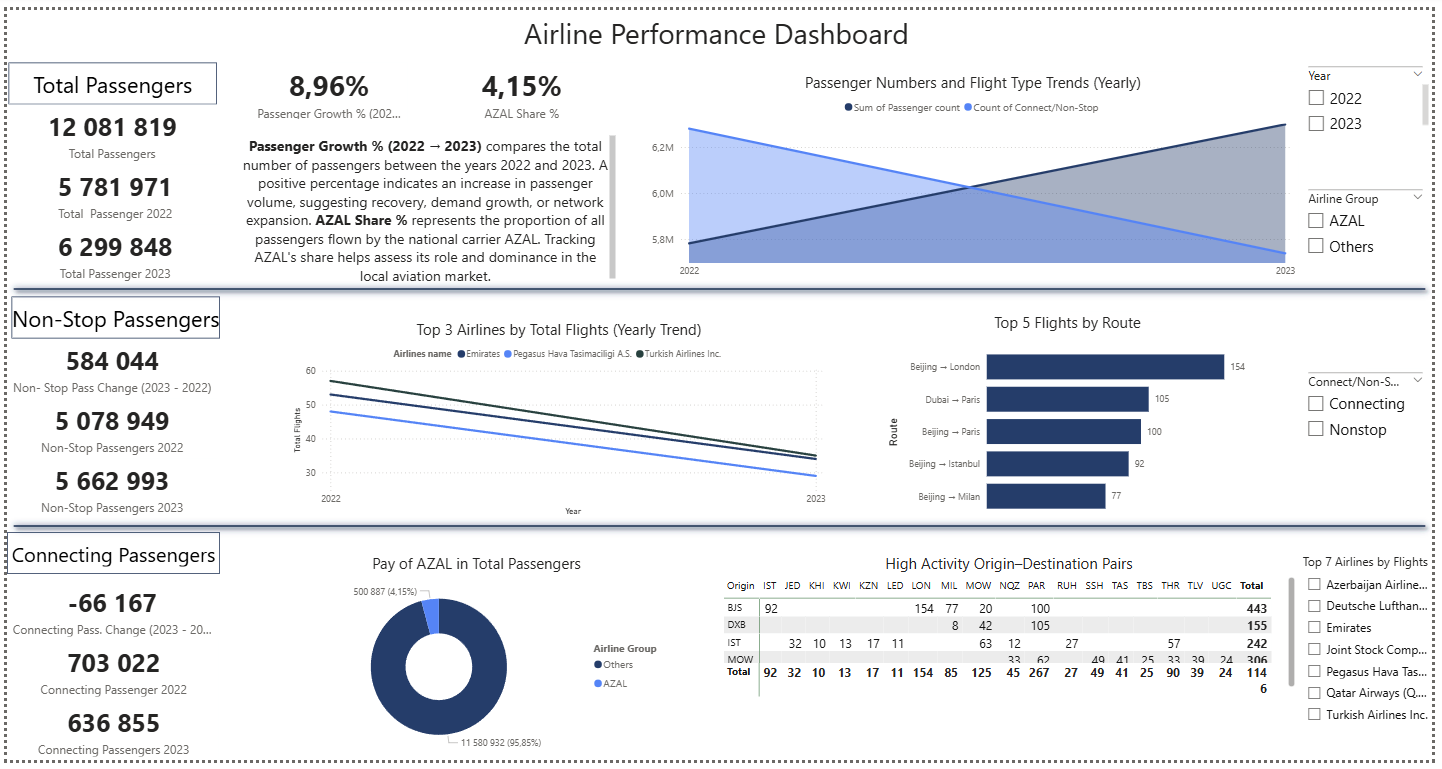

The page's visual inventory and layout, read from the dashboard file:
{"tool":"powerbi","page":{"name":"Airline Performance","canvas":[1900,1000],"ordinal":0},"visuals":[{"type":"card","fields":{"Values":["Measure Table.Total  Passenger 2022"]},"box":[4,206,280,80],"z":0},{"type":"card","fields":{"Values":["Measure Table.Total Passenger 2023"]},"box":[4,286,280,80],"z":1000},{"type":"card","fields":{"Values":["Measure Table.Non- Stop Pass Change (2023 - 2022)"]},"box":[0,438,280,80],"z":2000},{"type":"card","fields":{"Values":["Measure Table.Non-Stop Passengers 2022"]},"box":[0,518,280,80],"z":3000},{"type":"card","fields":{"Values":["Measure Table.Non-Stop Passengers 2023"]},"box":[0,598,280,80],"z":4000},{"type":"card","fields":{"Values":["Measure Table.Connecting Passenger Change (2023 - 2022)"]},"box":[0,760,280,80],"z":5000},{"type":"card","fields":{"Values":["Measure Table.Connecting Passenger 2022"]},"box":[2,840,280,80],"z":6000},{"type":"card","fields":{"Values":["Measure Table.Connecting Passengers 2023"]},"box":[2,920,280,80],"z":7000},{"type":"textbox","box":[2,0,1898,70],"z":8000},{"type":"textbox","box":[306,162,510,204],"z":9000},{"type":"card","fields":{"Values":["Measure Table.Passenger Growth % (2022 → 2023)"]},"box":[324,70,210,80],"z":10000},{"type":"card","fields":{"Values":["Measure Table.AZAL Share %"]},"box":[580,70,212,80],"z":11000},{"type":"areaChart","title":"Passenger Numbers and Flight Type Trends (Yearly)","fields":{"Category":["Airlanes Data.Year"],"Y":["Sum(Airlanes Data.Passenger count)"],"Y2":["CountNonNull(Airlanes Data.Connect/Non-Stop)"]},"box":[854,82,868,284],"z":12000},{"type":"clusteredBarChart","title":"Top 5 Flights by Route","fields":{"Category":["Airlanes Data.Route"],"Y":["Measure Table.Total Flights"]},"box":[1168,402,492,286],"z":13000},{"type":"lineChart","title":"Top 3 Airlines by Total Flights (Yearly Trend)","fields":{"Category":["Airlanes Data.Year"],"Series":["Airlanes name.Airlines name"],"Y":["Measure Table.Total Flights"]},"box":[376,412,720,266],"z":14000},{"type":"pivotTable","title":"High Activity Origin–Destination Pairs","fields":{"Rows":["Airlanes Data.Origin"],"Columns":["Airlanes Data.Destination"],"Values":["Measure Table.Total Flights"]},"box":[950,724,772,196],"z":15000},{"type":"donutChart","title":"Pay of AZAL in Total Passengers","fields":{"Category":["Airlines Data.Airline Group"],"Y":["Measure Table.Total Passengers"]},"box":[364,724,524,276],"z":16000},{"type":"slicer","fields":{"Values":["Airlines Data.Year"]},"box":[1722,70,178,100],"z":17000},{"type":"slicer","fields":{"Values":["Airlines Data.Connect/Non-Stop"]},"box":[1722,478,178,102],"z":18000},{"type":"slicer","title":"Top 7 Airlines by Flights","fields":{"Values":["Airlanes name.Airlines name"]},"box":[1722,724,178,236],"z":19000},{"type":"slicer","fields":{"Values":["Airlines Data.Airline Group"]},"box":[1722,234,178,104],"z":20000},{"type":"shape","box":[2,70,278,56],"z":21000},{"type":"shape","box":[6,382,278,56],"z":22000},{"type":"shape","box":[0,696,284,56],"z":23000},{"type":"card","fields":{"Values":["Measure Table.Total Passengers"]},"box":[0,126,280,80],"z":24000},{"type":"shape","box":[0,352,1900,40],"z":25000},{"type":"shape","box":[0,668,1900,40],"z":26000}]}

Visuals, with their boxes in screenshot pixels (x1, y1, x2, y2), scaled from the page's 1900x1000 canvas onto the 1442x769 screenshot:
card - Measure Table.Total  Passenger 2022: <region>3, 158, 216, 220</region>
card - Measure Table.Total Passenger 2023: <region>3, 220, 216, 281</region>
card - Measure Table.Non- Stop Pass Change (2023 - 2022): <region>0, 337, 213, 398</region>
card - Measure Table.Non-Stop Passengers 2022: <region>0, 398, 213, 460</region>
card - Measure Table.Non-Stop Passengers 2023: <region>0, 460, 213, 521</region>
card - Measure Table.Connecting Passenger Change (2023 - 2022): <region>0, 584, 213, 646</region>
card - Measure Table.Connecting Passenger 2022: <region>2, 646, 214, 707</region>
card - Measure Table.Connecting Passengers 2023: <region>2, 707, 214, 768</region>
textbox: <region>2, 0, 1441, 54</region>
textbox: <region>232, 125, 619, 281</region>
card - Measure Table.Passenger Growth % (2022 → 2023): <region>246, 54, 405, 115</region>
card - Measure Table.AZAL Share %: <region>440, 54, 601, 115</region>
"Passenger Numbers and Flight Type Trends (Yearly)" areaChart: <region>648, 63, 1307, 281</region>
"Top 5 Flights by Route" clusteredBarChart: <region>886, 309, 1260, 529</region>
"Top 3 Airlines by Total Flights (Yearly Trend)" lineChart: <region>285, 317, 832, 521</region>
"High Activity Origin–Destination Pairs" pivotTable: <region>721, 557, 1307, 707</region>
"Pay of AZAL in Total Passengers" donutChart: <region>276, 557, 674, 768</region>
slicer - Airlines Data.Year: <region>1307, 54, 1441, 131</region>
slicer - Airlines Data.Connect/Non-Stop: <region>1307, 368, 1441, 446</region>
"Top 7 Airlines by Flights" slicer: <region>1307, 557, 1441, 738</region>
slicer - Airlines Data.Airline Group: <region>1307, 180, 1441, 260</region>
shape: <region>2, 54, 213, 97</region>
shape: <region>5, 294, 216, 337</region>
shape: <region>0, 535, 216, 578</region>
card - Measure Table.Total Passengers: <region>0, 97, 213, 158</region>
shape: <region>0, 271, 1441, 301</region>
shape: <region>0, 514, 1441, 544</region>
